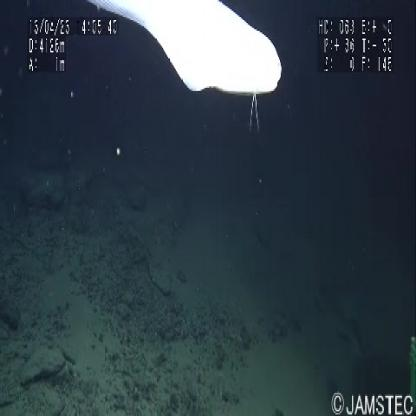Bio: (86, 2, 285, 138)
